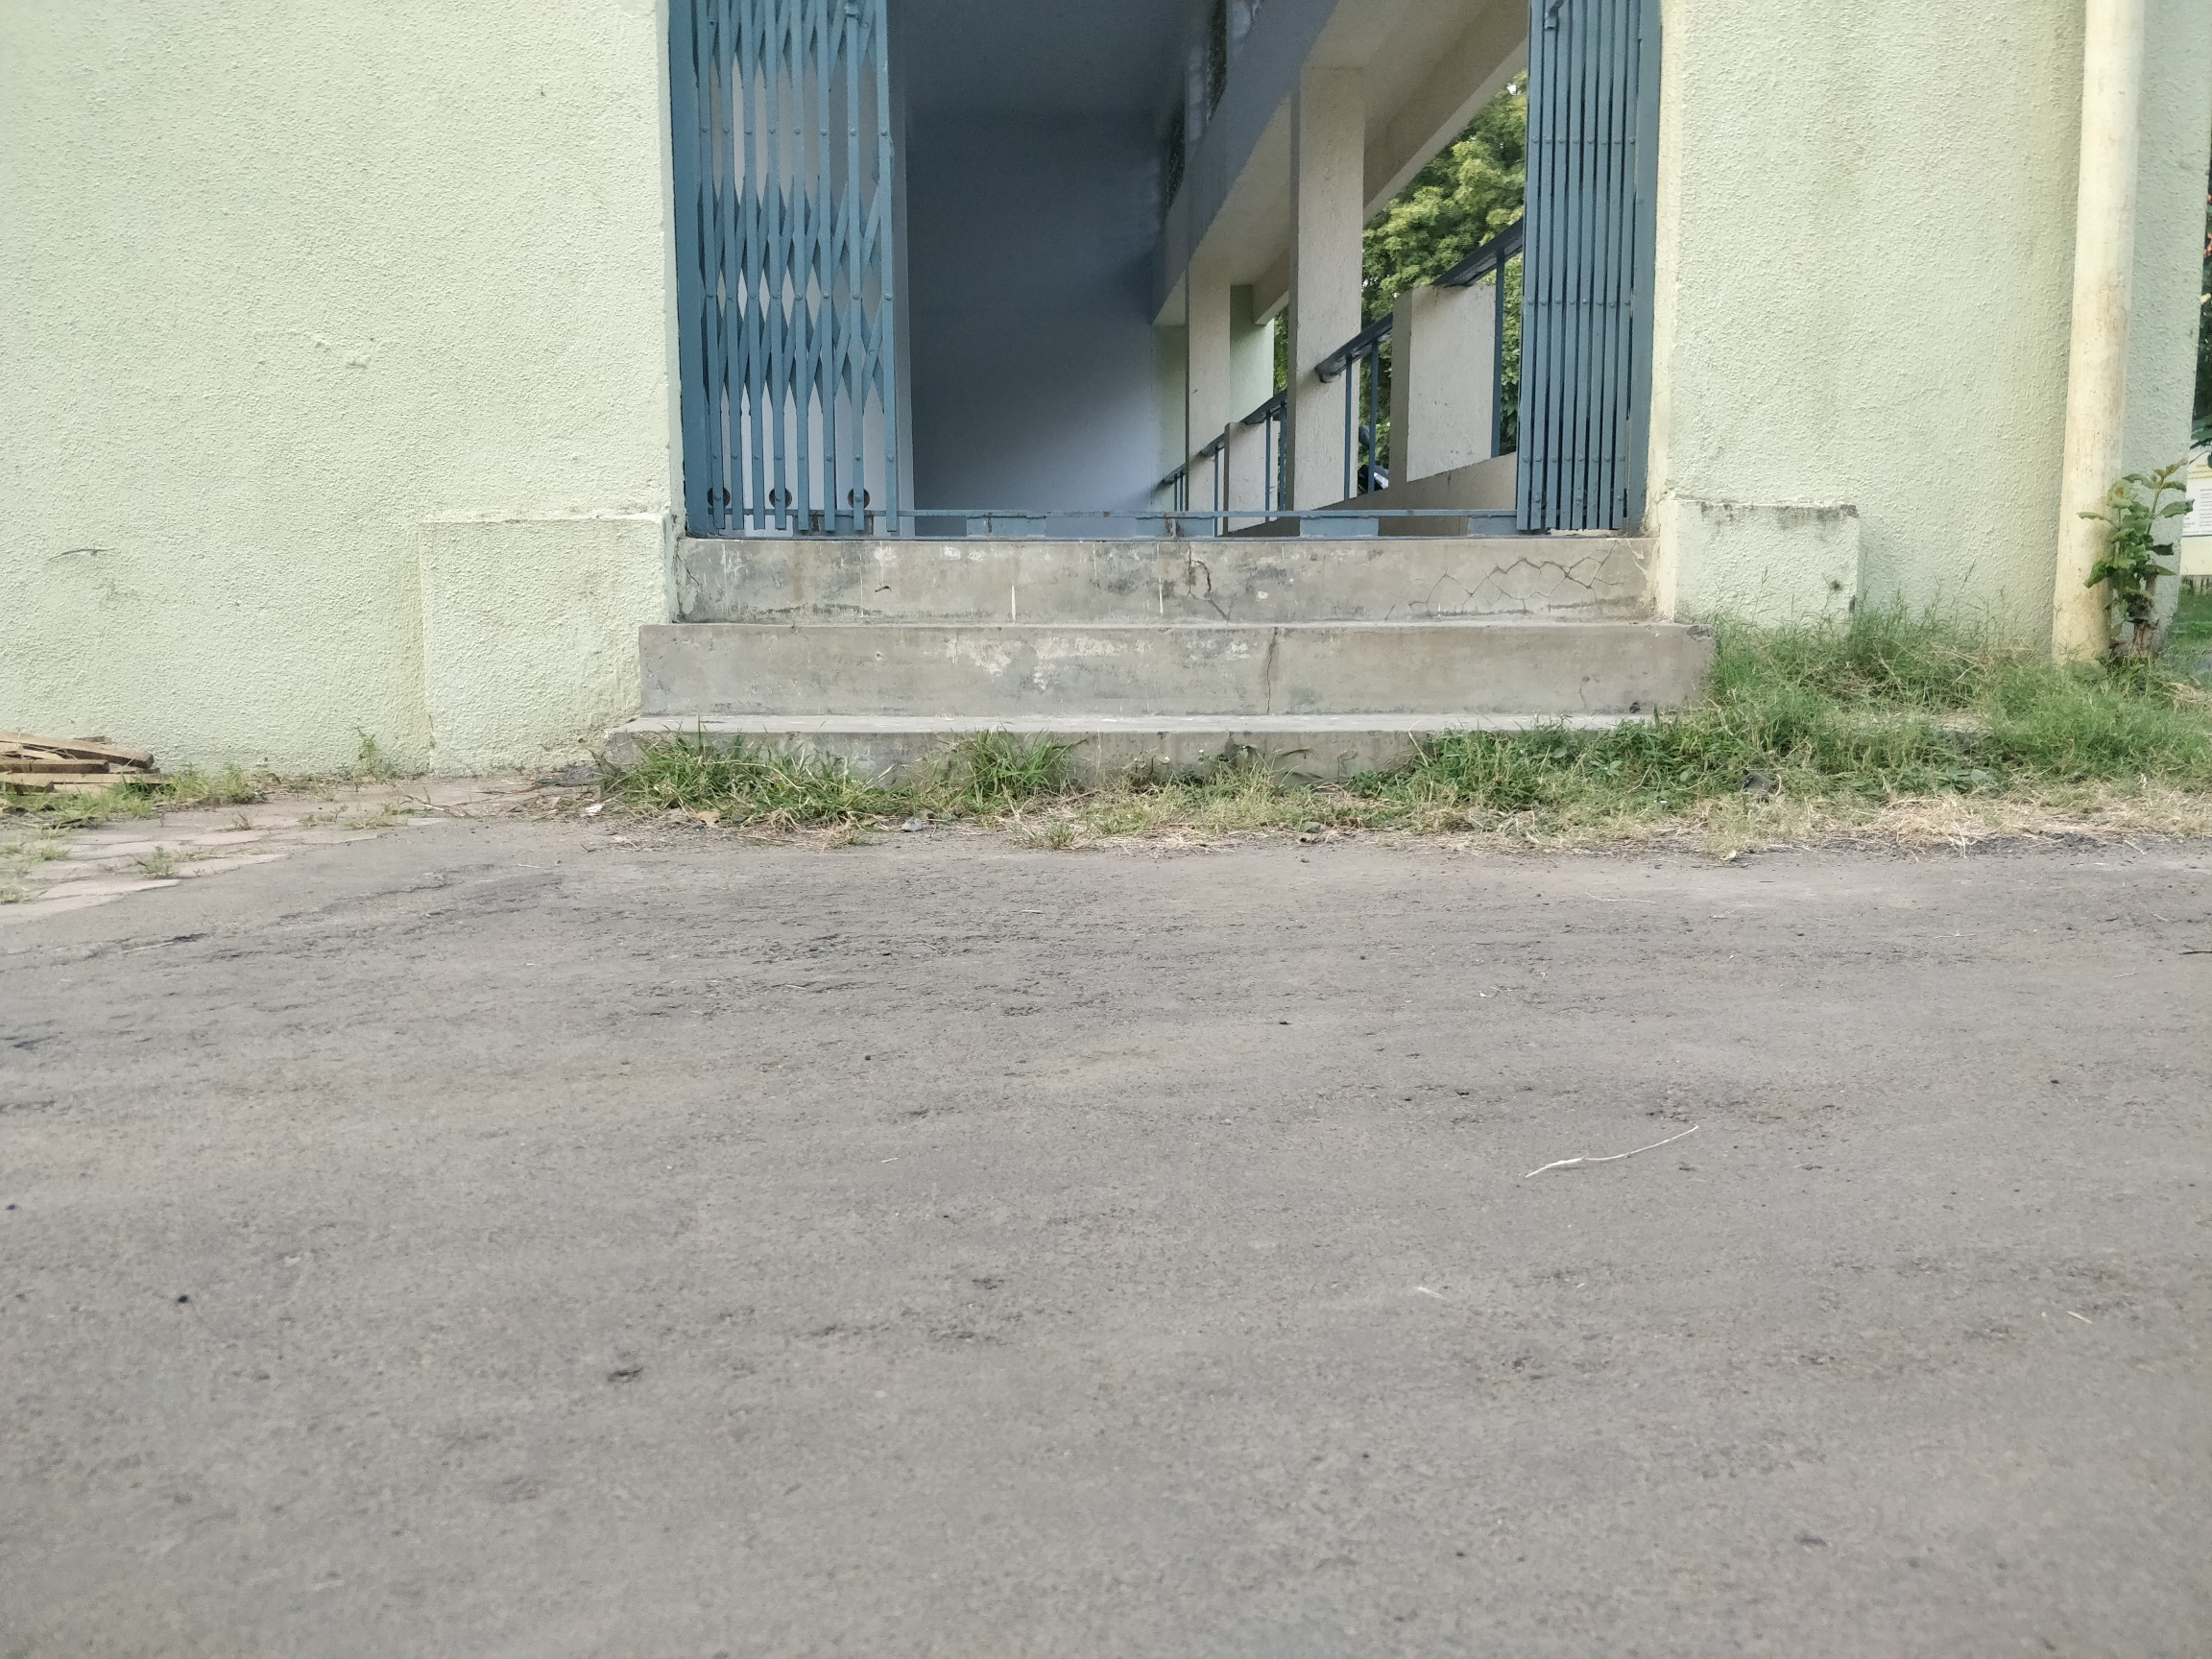stairs_up: (592, 530, 1766, 831)
